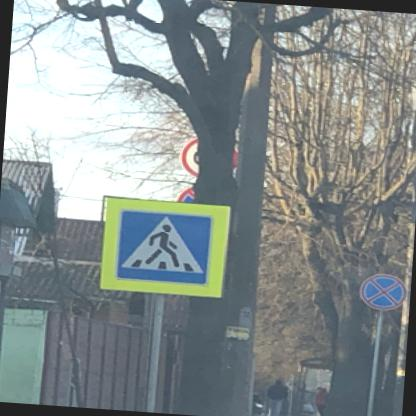crosswalk: (116, 207, 216, 284)
